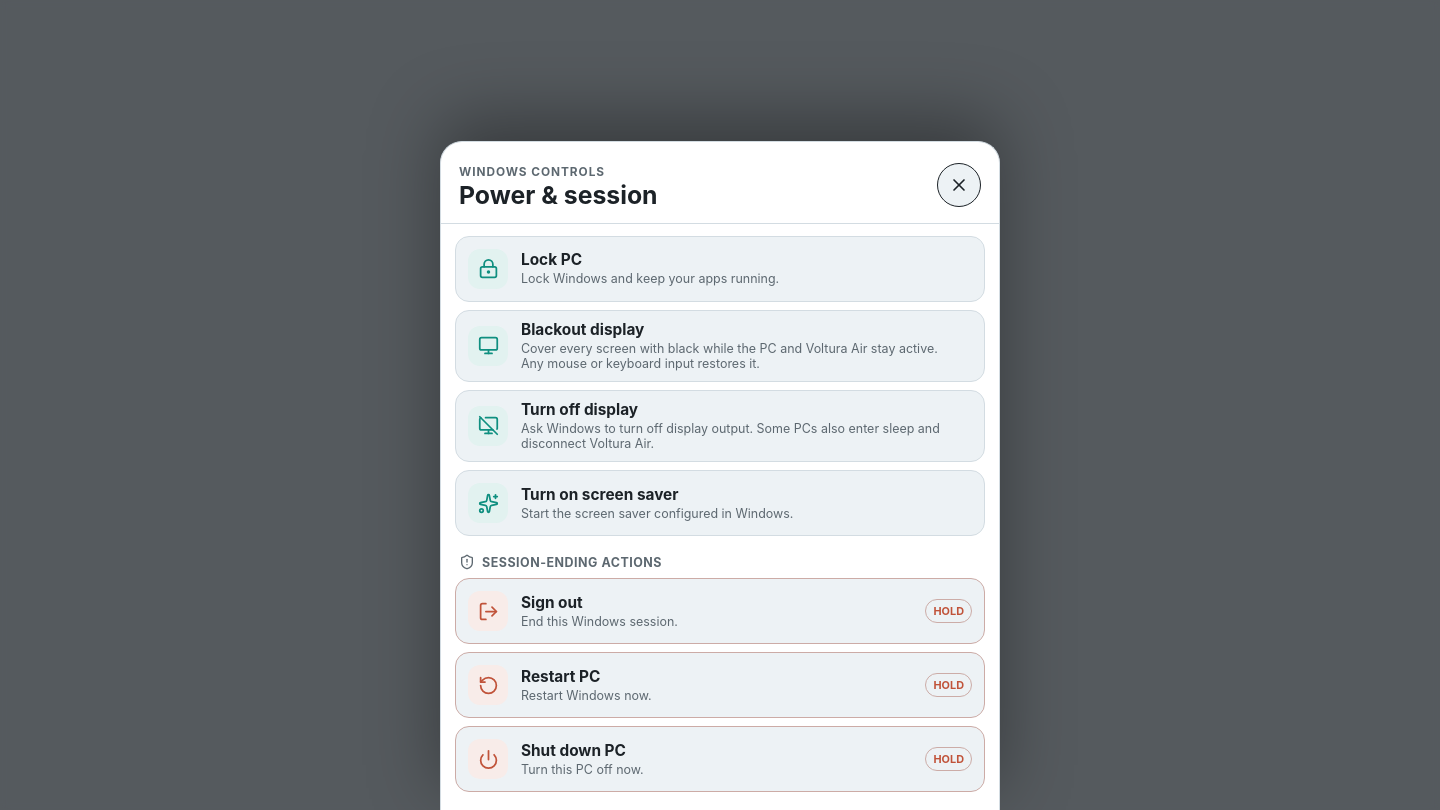
PowerControlSheet › warns that display off can require physical wake before sending it
Click the button "Turn off display" at (720, 426), box [455, 390, 985, 462]
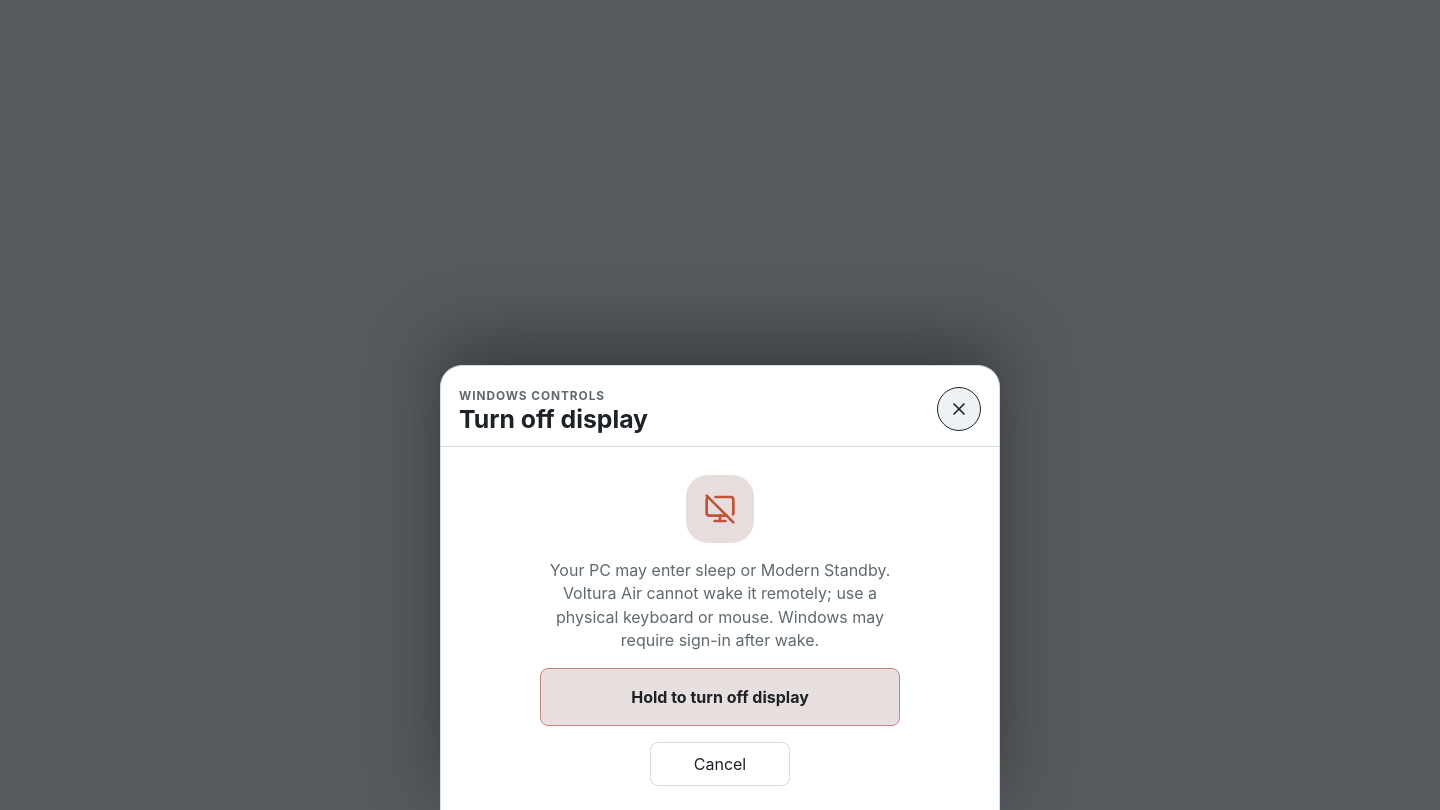
Check: the text "Windows may require sign-in after wake" is shown, box [550, 560, 890, 650]
